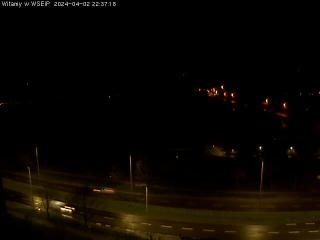car: (49, 201, 77, 219), (92, 185, 116, 197)
